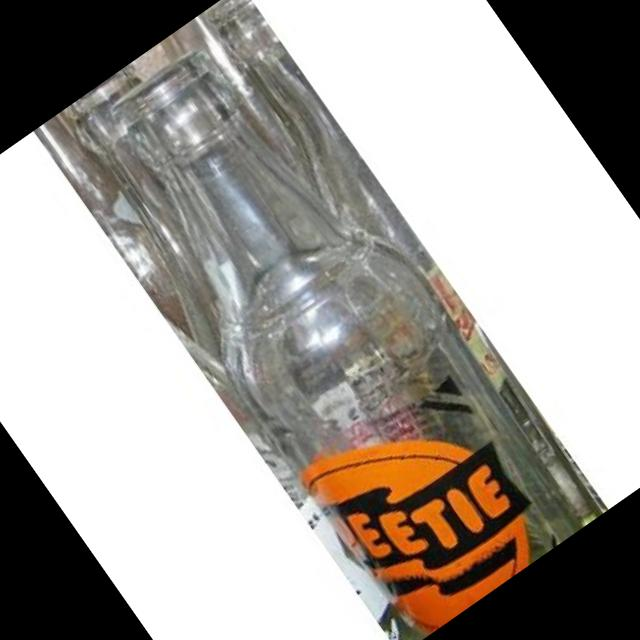BotolKaca: (46, 5, 597, 640)
